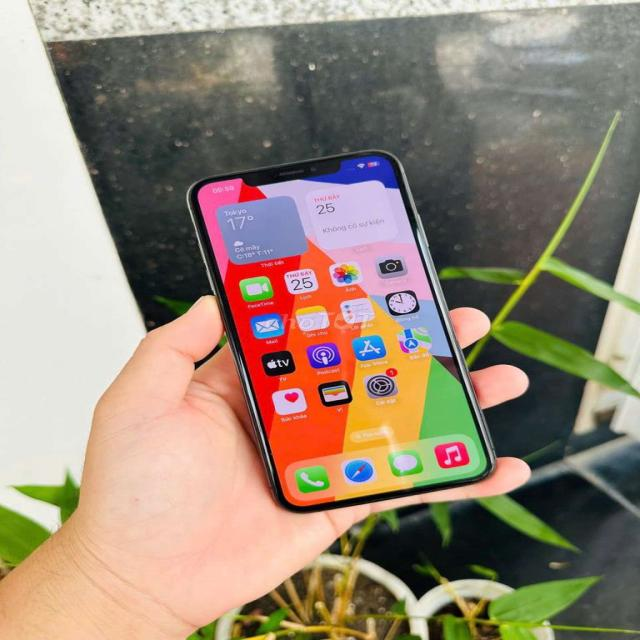gen_x_xs: (189, 152, 494, 512)
